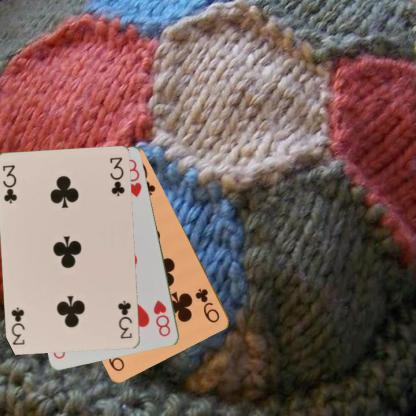3c: (0, 162, 18, 205), (116, 298, 134, 340)
8h: (151, 298, 172, 338)
9c: (192, 285, 222, 325)
